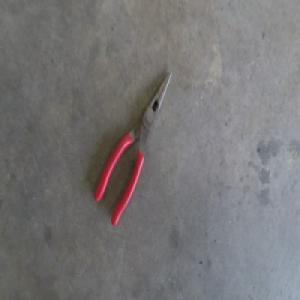Pliers: (94, 69, 173, 225)
